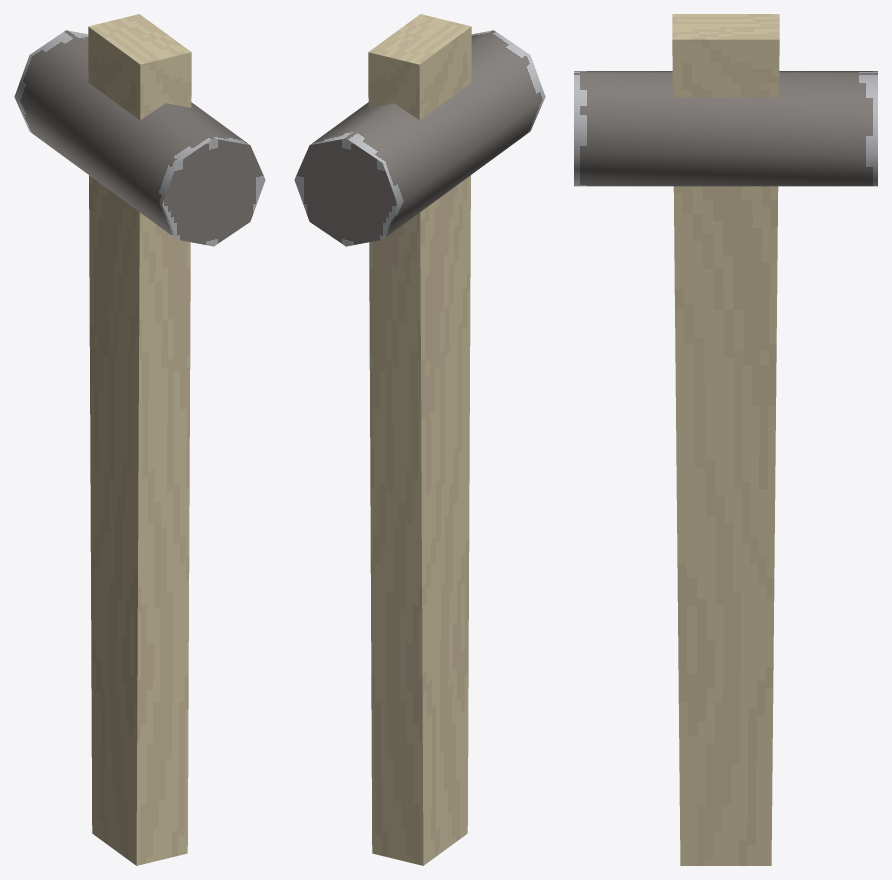
File: 0046_Hammer.glb
3 views of the same model, side by side, from view 1: azimuth 30°, elevation 25°; view 2: azimuth 150°, elevation 25°; view 3: azimuth 270°, elevation 25° (orthographic). The views are drawn at different scales.
Parts seen in each view (by area): view 1: part_0; view 2: part_0; view 3: part_0.
Part boxes in pixels (x1,y1,x2,y2): part_0: [14, 14, 265, 865]; part_0: [294, 14, 545, 865]; part_0: [574, 14, 877, 865].
Size of the model in its own units: 0.0404 by 0.3 by 0.0999.
1 material, 1 textured.
